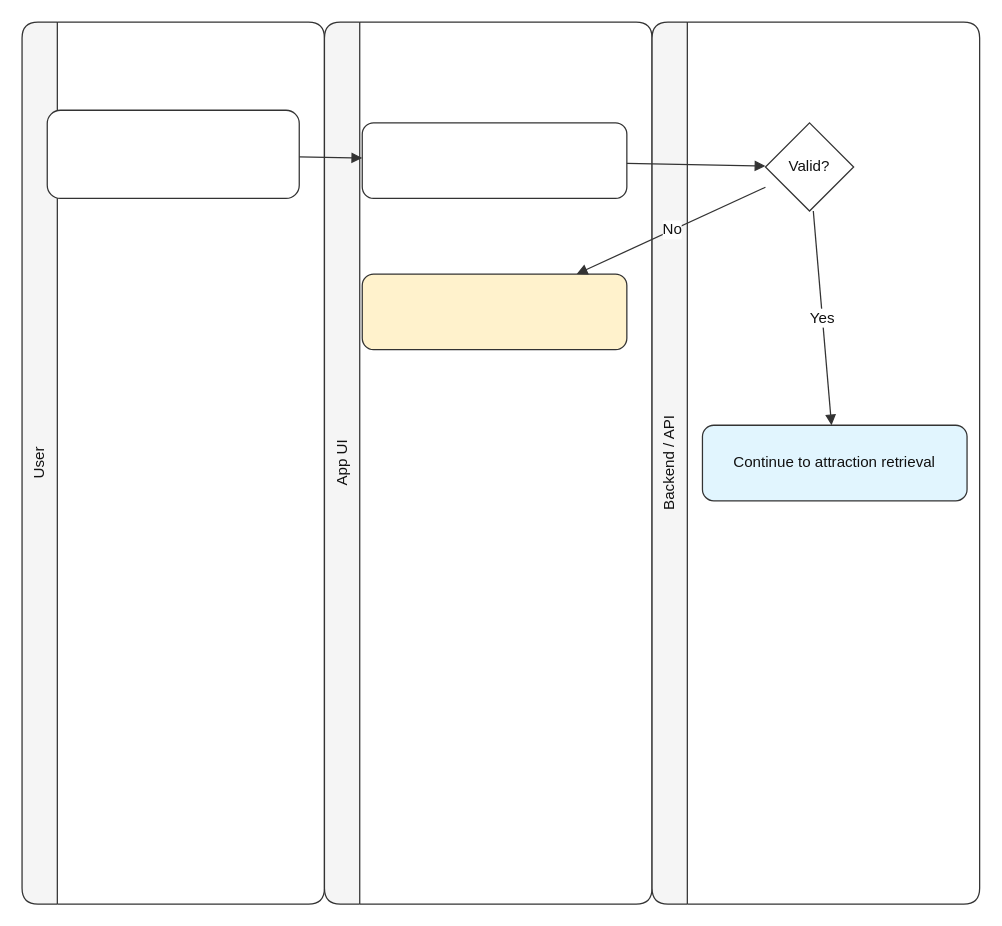
The diagram is 1002 pixels wide and 926 high, and some of its shapes have lost their labels. Each missing label, with the centre of its shape:
Input trip preferences (city, duration, budget, interests, trip type): point 172,153
Show errors / prompt fixes: point 494,311
Validate input (required fields, ranges): point 494,160
